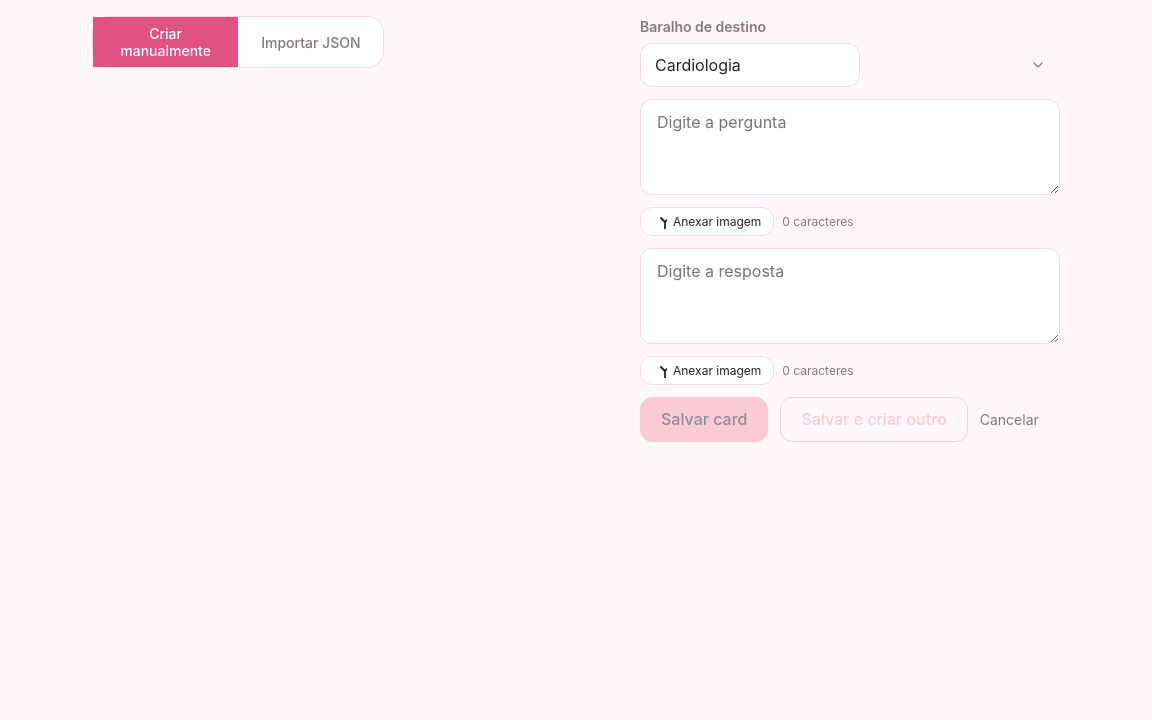
Test case: NewCard › renderiza seção de importação JSON com dropzone, colar texto e botão importar
// Abrir aba de importação
Click the radio button labelled "Importar JSON" at (311, 42), box [238, 17, 383, 67]
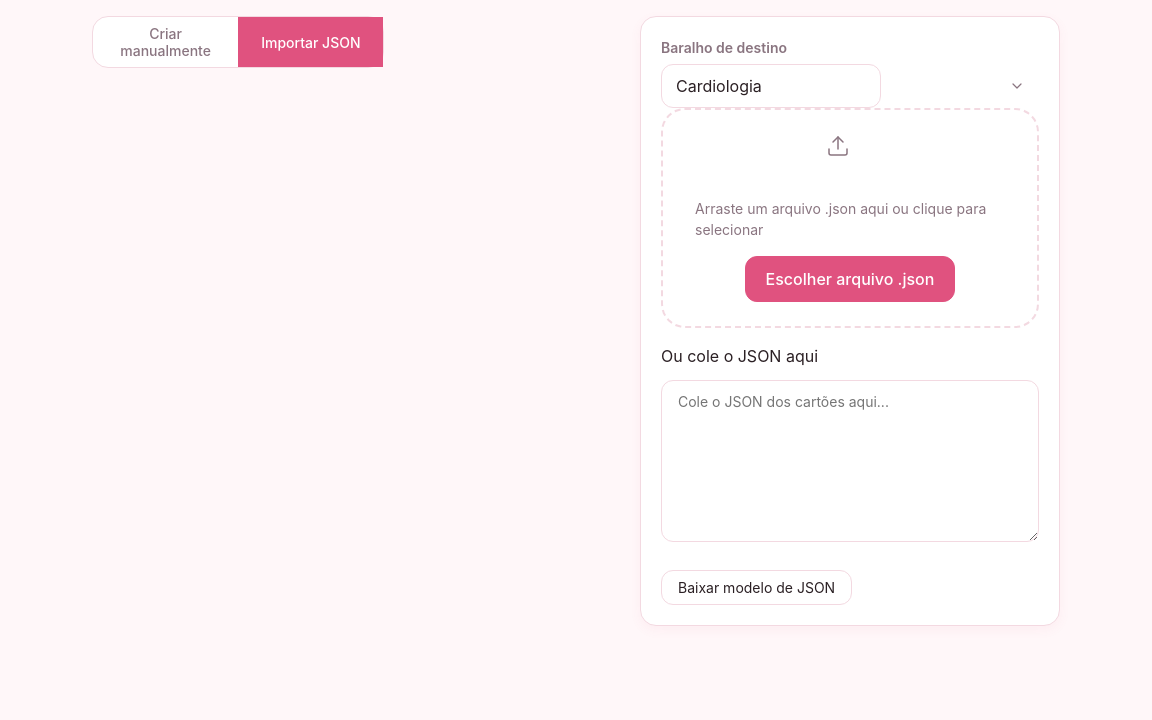
Expected: the button "Escolher arquivo .json" is shown, [745, 256, 955, 302]
Expected: the text box with placeholder "Cole o JSON dos cartões aqui..." is shown, [661, 380, 1039, 542]
Expected: the button "Baixar modelo de JSON" is shown, [661, 570, 852, 605]
